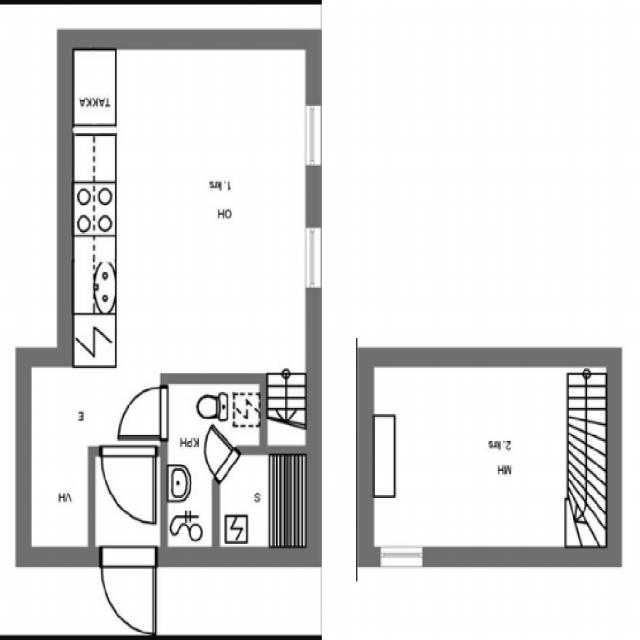door: (100, 548, 156, 638), (194, 428, 239, 482), (120, 388, 168, 438)
